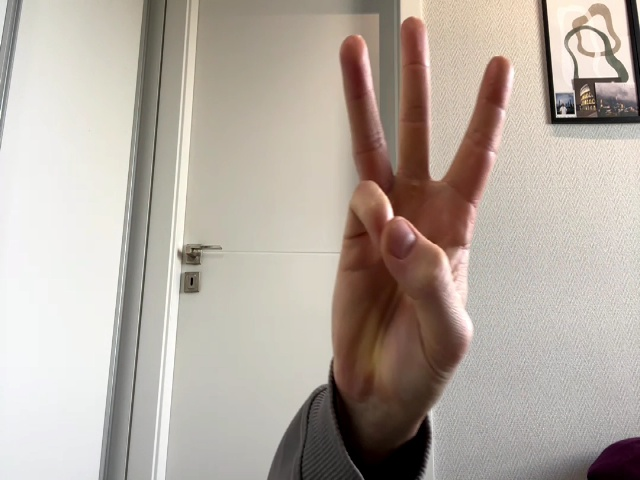W: (331, 16, 512, 394)
